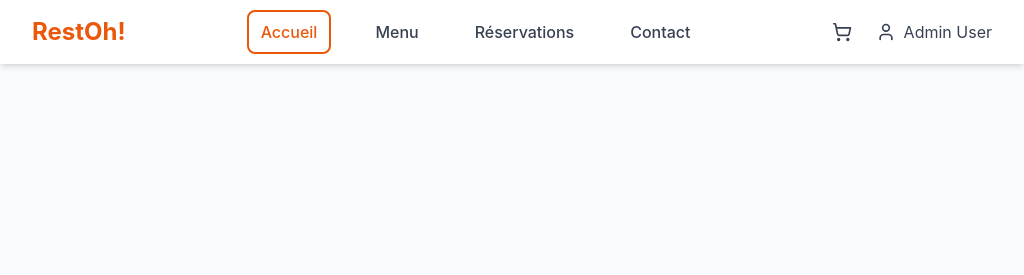
Test: Header Component › Authentication States › should display admin panel link for admin users only
# Open user menu
Click the button "Admin User": (934, 32) x1=876 y1=20 x2=992 y2=44
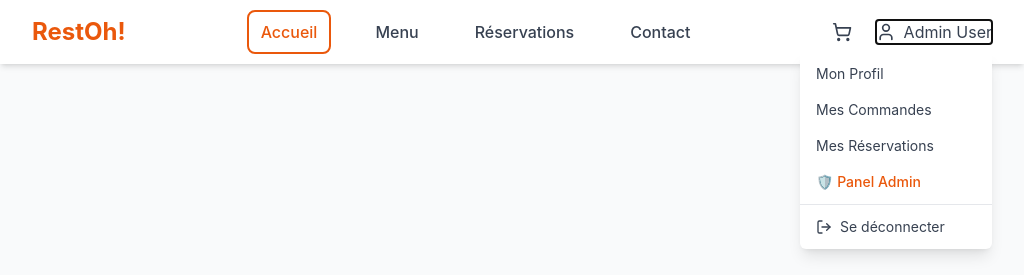
Expected: the link "🛡️ Panel Admin" is shown, x1=816 y1=173 x2=921 y2=190
